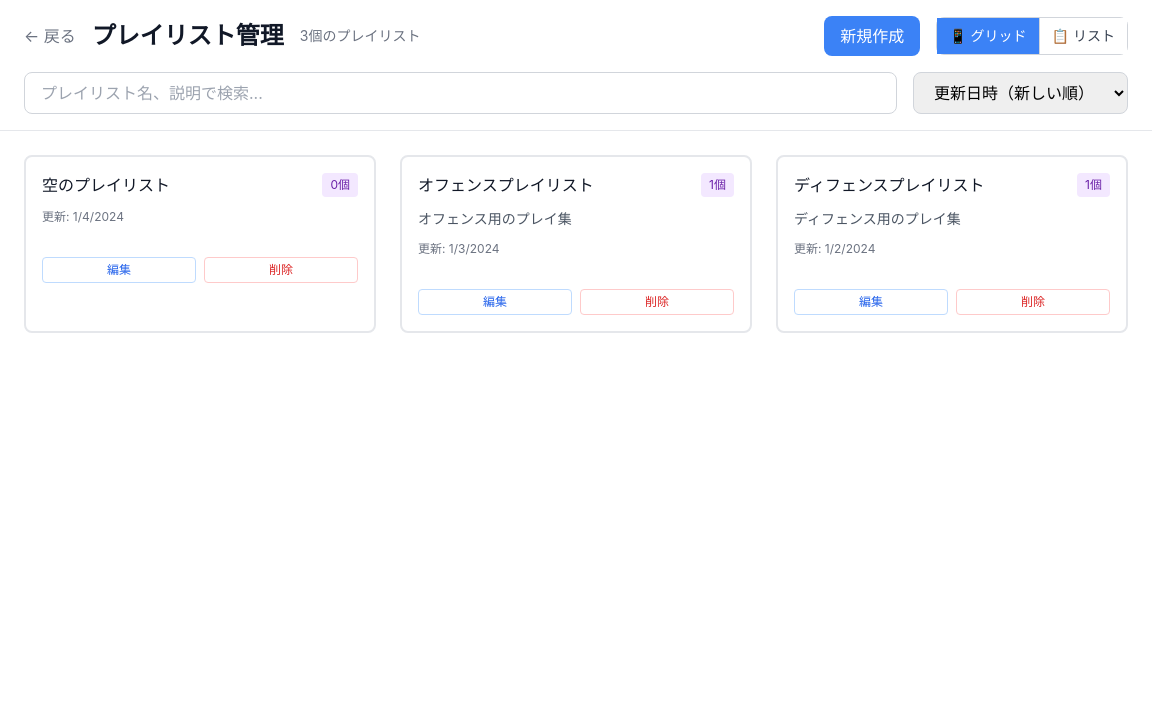
Test case: PlaylistWorkspace › ブラウズモード（初期表示） › プレイリストをクリックすると表示モードになること
Click the text "オフェンスプレイリスト": x=506, y=185 [402,157,750,289]
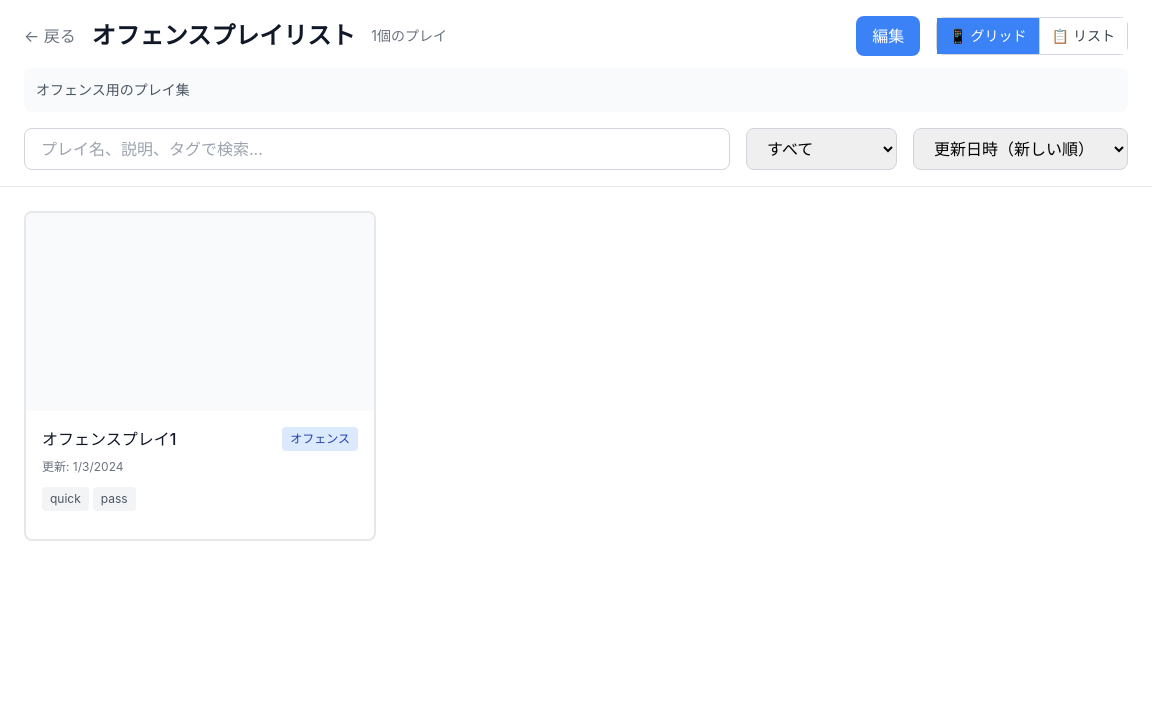
Expected: the text "1個のプレイ" is shown, [371,26,447,46]
Expected: the heading "オフェンスプレイリスト" is shown, [92,20,355,52]
